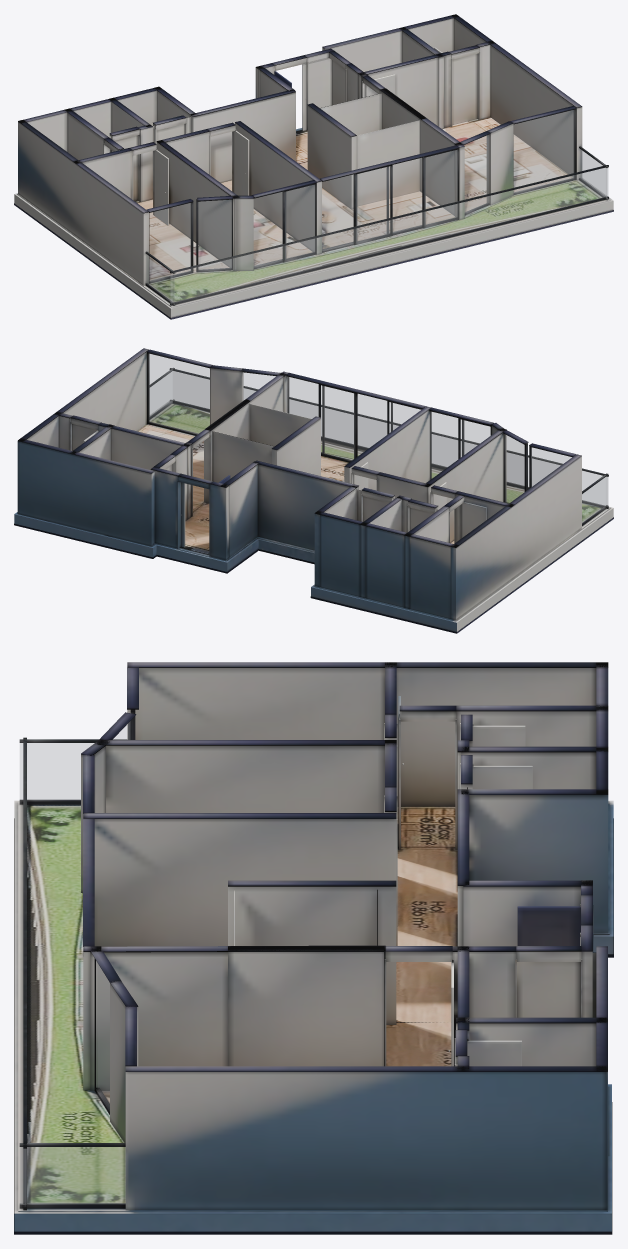
3 renders of one model, top to bottom at view 1: azimuth 30°, elevation 25°; view 2: azimuth 150°, elevation 25°; view 3: azimuth 270°, elevation 25°, orthographic. The views are drawn at different scales.
Parts seen in each view (by area): view 1: plan, railg2_m, glass3_m, glass5_m, glass2_m, glass0_m, glass1_m, glass4_m, railg1_m, railg0_m; view 2: plan, railg2_m, glass3_m, glass5_m, glass2_m, glass1_m, glass0_m, railg1_m, railg0_m, glass4_m; view 3: plan, railg0_m, railg1_m, glass4_m.
Boxes of the visible parts, x1,y1,x2,y2 form: plan: [14, 14, 613, 319]; railg2_m: [170, 168, 608, 302]; glass3_m: [322, 150, 457, 249]; glass5_m: [514, 110, 574, 192]; glass2_m: [254, 185, 314, 266]; glass0_m: [149, 203, 190, 280]; glass1_m: [198, 200, 231, 269]; glass4_m: [464, 135, 488, 212]; railg1_m: [146, 254, 174, 303]; railg0_m: [580, 149, 607, 197]; plan: [14, 348, 613, 633]; railg2_m: [173, 371, 608, 506]; glass3_m: [287, 377, 420, 460]; glass5_m: [149, 354, 209, 433]; glass2_m: [430, 411, 490, 479]; glass1_m: [505, 434, 524, 502]; glass0_m: [531, 447, 571, 486]; railg1_m: [582, 477, 606, 523]; railg0_m: [150, 372, 171, 416]; glass4_m: [243, 372, 275, 400]; plan: [14, 662, 613, 1234]; railg0_m: [20, 1147, 125, 1203]; railg1_m: [20, 743, 93, 799]; glass4_m: [97, 963, 109, 1107].
Bounding box in the file's own units: 14.41 × 2.62 × 8.84.
2 materials, 1 textured.
